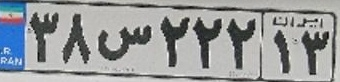character: (95, 12, 156, 68), (225, 13, 259, 75), (192, 12, 225, 73), (158, 12, 193, 69), (28, 6, 60, 65), (61, 10, 94, 67), (299, 28, 330, 79), (269, 26, 297, 76)
